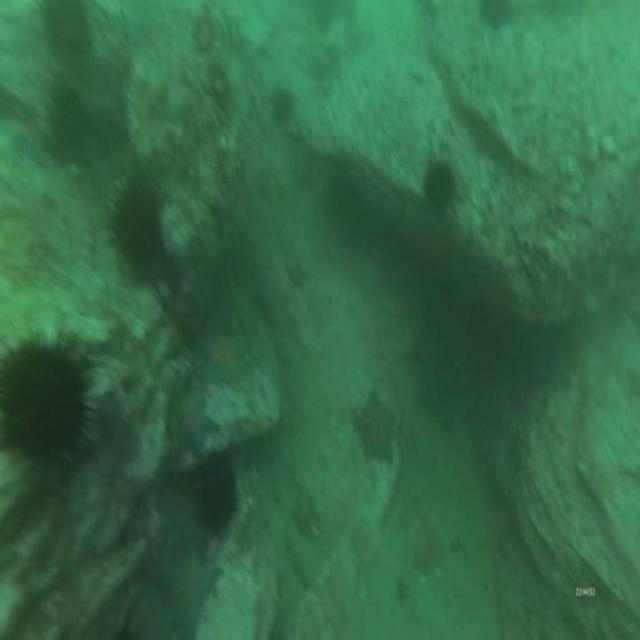echinus: (0, 329, 96, 479), (103, 176, 171, 284), (196, 446, 242, 556), (47, 89, 94, 180), (45, 0, 91, 63), (422, 155, 460, 223), (476, 0, 516, 30), (269, 87, 295, 128)
starfish: (197, 312, 255, 391), (353, 389, 403, 471)
